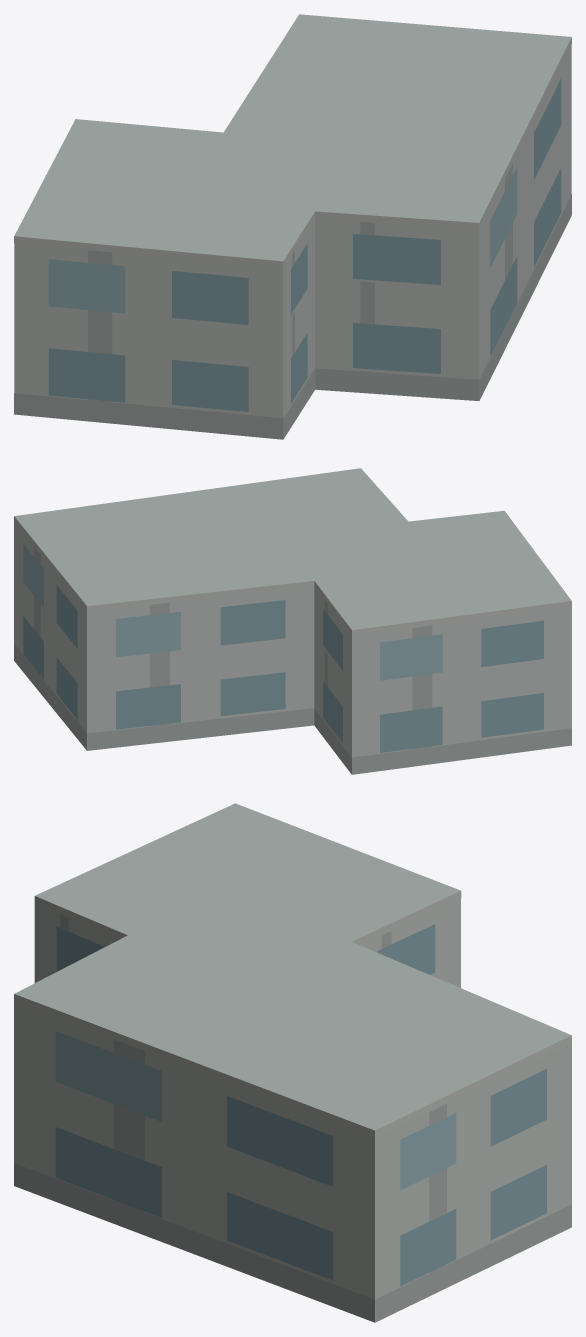
Rendered from survey-upis-32843635.glb.
3 views of the same model, one above another, from view 1: azimuth 30°, elevation 25°; view 2: azimuth 150°, elevation 25°; view 3: azimuth 270°, elevation 25° (orthographic). The views are drawn at different scales.
Parts seen in each view (by area): view 1: survey-upis-32843635.tmp; view 2: survey-upis-32843635.tmp; view 3: survey-upis-32843635.tmp.
Part boxes in pixels (<box>): survey-upis-32843635.tmp: <box>14,14,571,439</box>; survey-upis-32843635.tmp: <box>14,468,571,774</box>; survey-upis-32843635.tmp: <box>14,803,571,1322</box>.
Bounding box in the file's own units: 22.31 × 6.1 × 16.06.
